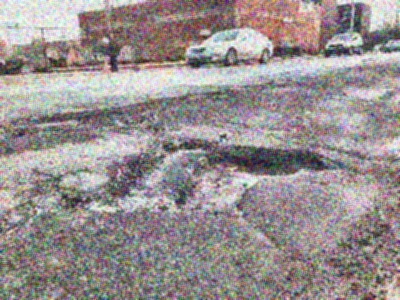pothole: (88, 137, 327, 214), (27, 114, 92, 135)
